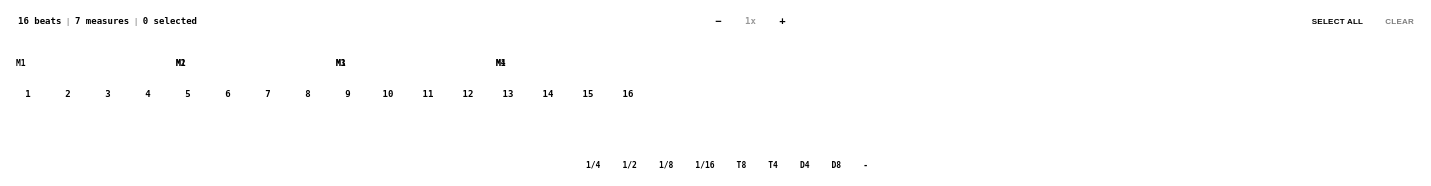
Test: BeatSubdivisionGrid › Selection Interactions - Drag Selection › selects range of beats when dragging across cells
Press the mouse on the button "2" at (68, 94), box [65, 89, 71, 99]
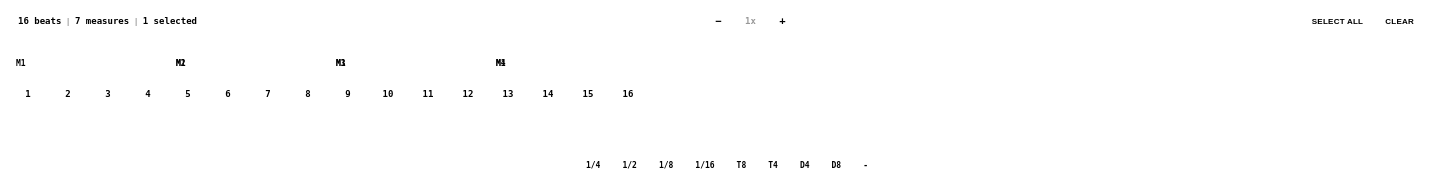
Hover over the button "3".
mouse_move(108, 94)  # box [105, 89, 111, 99]
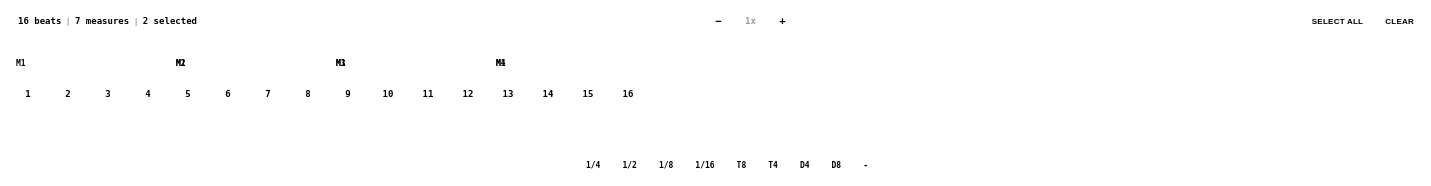
Hover over the button "4".
mouse_move(148, 94)  # box [145, 89, 151, 99]
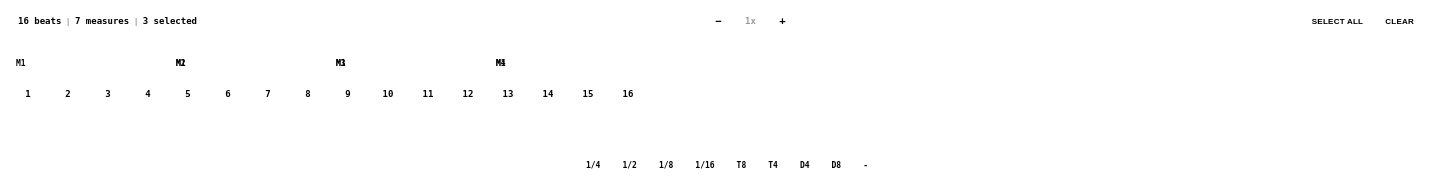
Hover over the button "5".
mouse_move(188, 94)  # box [185, 89, 191, 99]
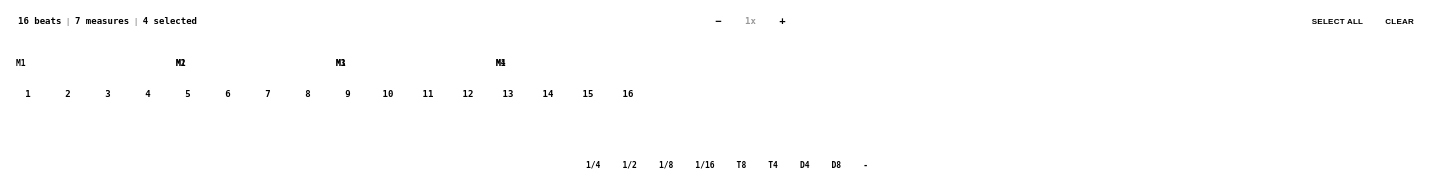
Expected: the text "4 selected" is shown, [143, 16, 197, 26]
